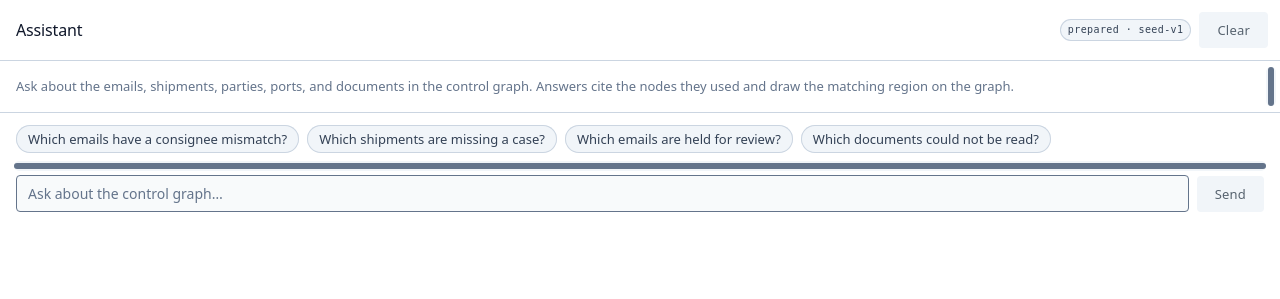
Test case: GraphChatPanel › renders only the followups that came back when fewer than four arrive
Click the button "Which emails have a consignee mismatch?". click: point(158, 139)
box: 16,125 -> 299,153
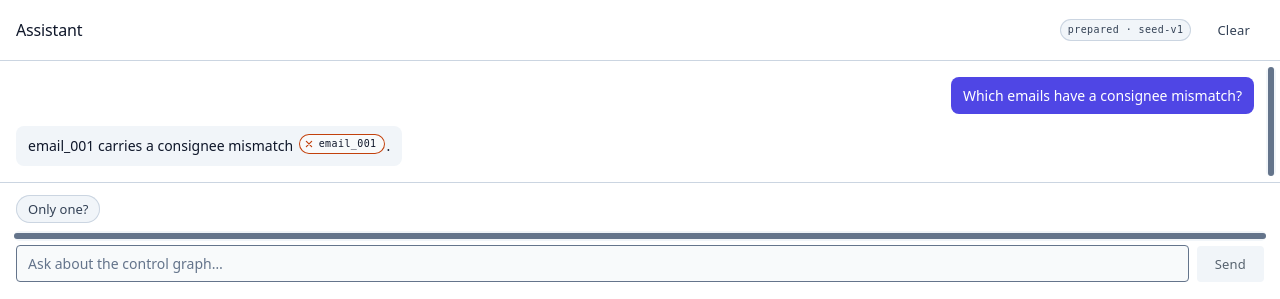
Result: the text "email_001 carries a consignee mismatch email_001 ." is shown at 28,134 -> 390,158
Result: the number of buttons "Only one?" is 1 at 16,195 -> 100,223
Result: the button "Only one?" is shown at 16,195 -> 100,223
